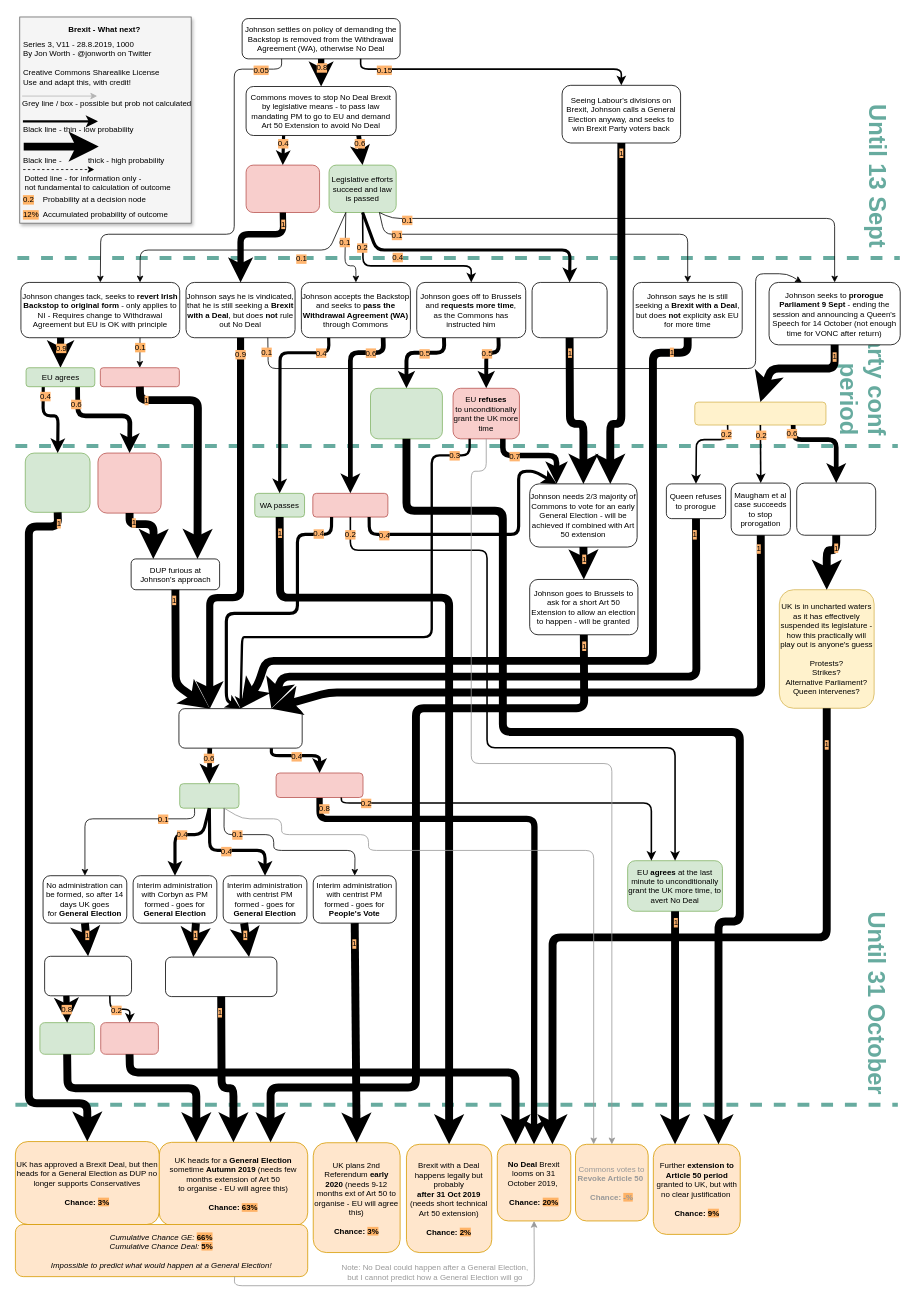
Image size: 916x1306. Some labels were removed from this diagram. Each missing label, with the centre of its shape:
Commons votes against Deal with original backstop: (x=129, y=482)
Commons votes in favour of Deal with original backstop: (x=57, y=482)
Early to mid October Vote of No Confidence (VONC): (x=240, y=728)
EU agrees to unconditionally grant the UK more time: (x=406, y=413)
EU doesn't agree: (x=139, y=377)
Legislation doesn't pass: (x=129, y=1038)
Legislation passes: (x=66, y=1038)
Legislative efforts fail and law is not passed: (x=282, y=188)
Might need emergency legislation to prevent No Deal before 31 Oct - will pass: (x=221, y=976)
Might need emergency legislation to prevent No Deal in washup: (x=88, y=976)
Prorogation succeeds and Commons does not sit until 1 November: (x=836, y=508)
Seeing there is no support for his way forward, Johnson calls an election: (x=569, y=310)
UK heads for constitutional crisis: (x=760, y=413)
VONC doesn't pass: (x=319, y=785)
VONC passes: (x=209, y=795)
WA doesn't pass: (x=350, y=505)
